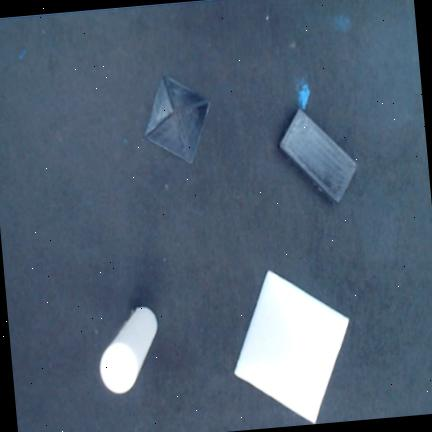Cilindro: (100, 307, 158, 394)
Paralelepipedo: (277, 107, 358, 204)
Piramide: (233, 268, 348, 424), (143, 75, 211, 164)
